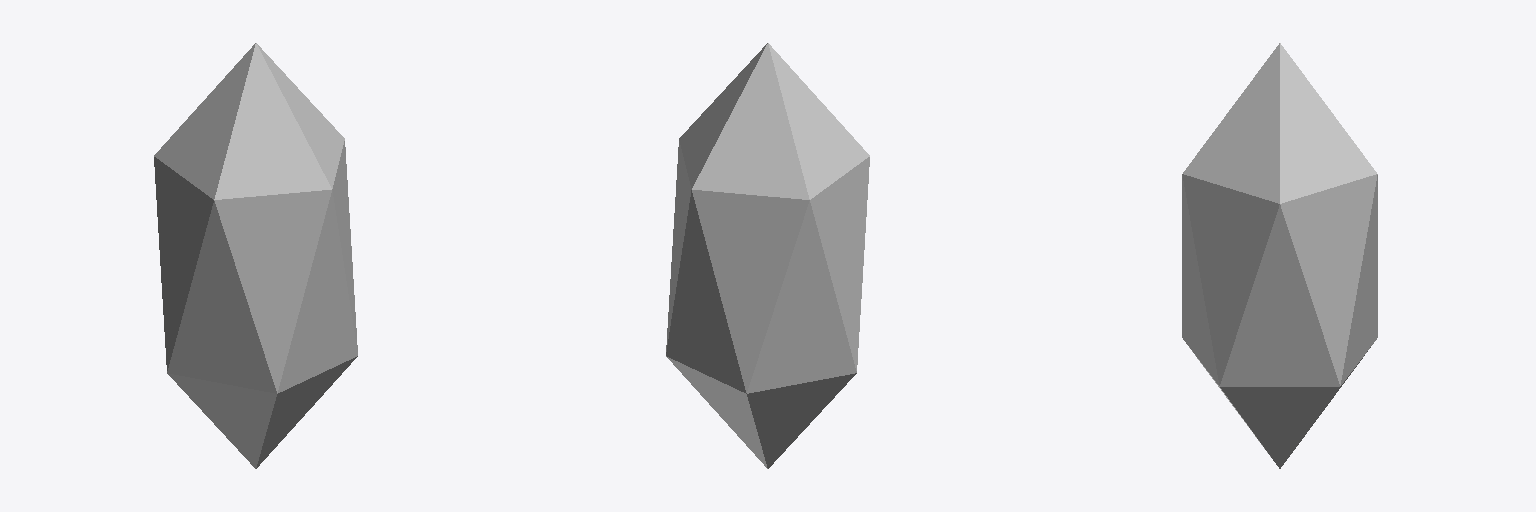
File: diamond.obj
3 renders of one model, left to right at view 1: azimuth 30°, elevation 25°; view 2: azimuth 150°, elevation 25°; view 3: azimuth 270°, elevation 25°, orthographic.
Parts seen in each view (by area): view 1: Icosphere; view 2: Icosphere; view 3: Icosphere.
Part boxes in pixels (left/top/right/bottom): Icosphere: left=154, top=43, right=357, bottom=468; Icosphere: left=666, top=43, right=869, bottom=468; Icosphere: left=1182, top=43, right=1377, bottom=468.
Size of the model in its own units: 1.79 by 4.1 by 1.7.